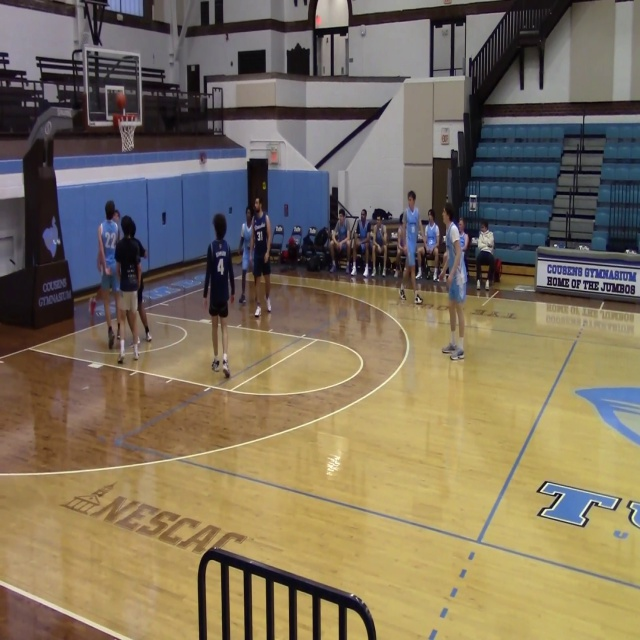Basketball: (115, 92, 126, 108)
